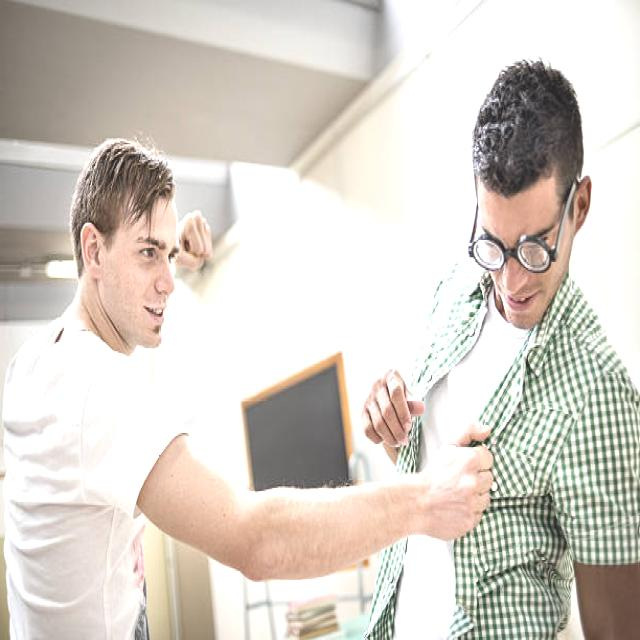fight: (52, 55, 595, 640)
